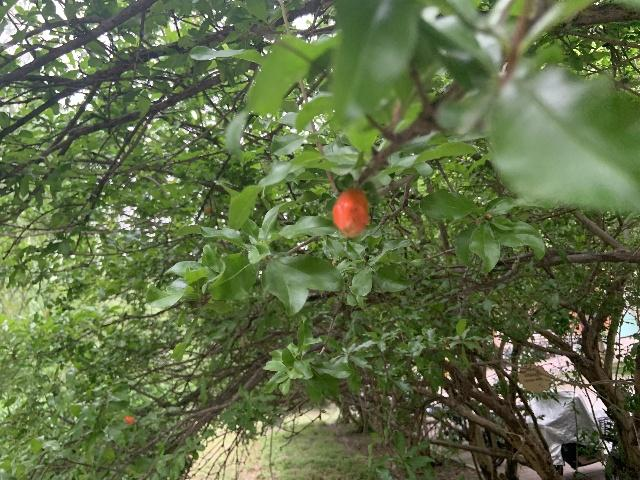bud: (332, 188, 370, 238), (124, 416, 135, 423)
